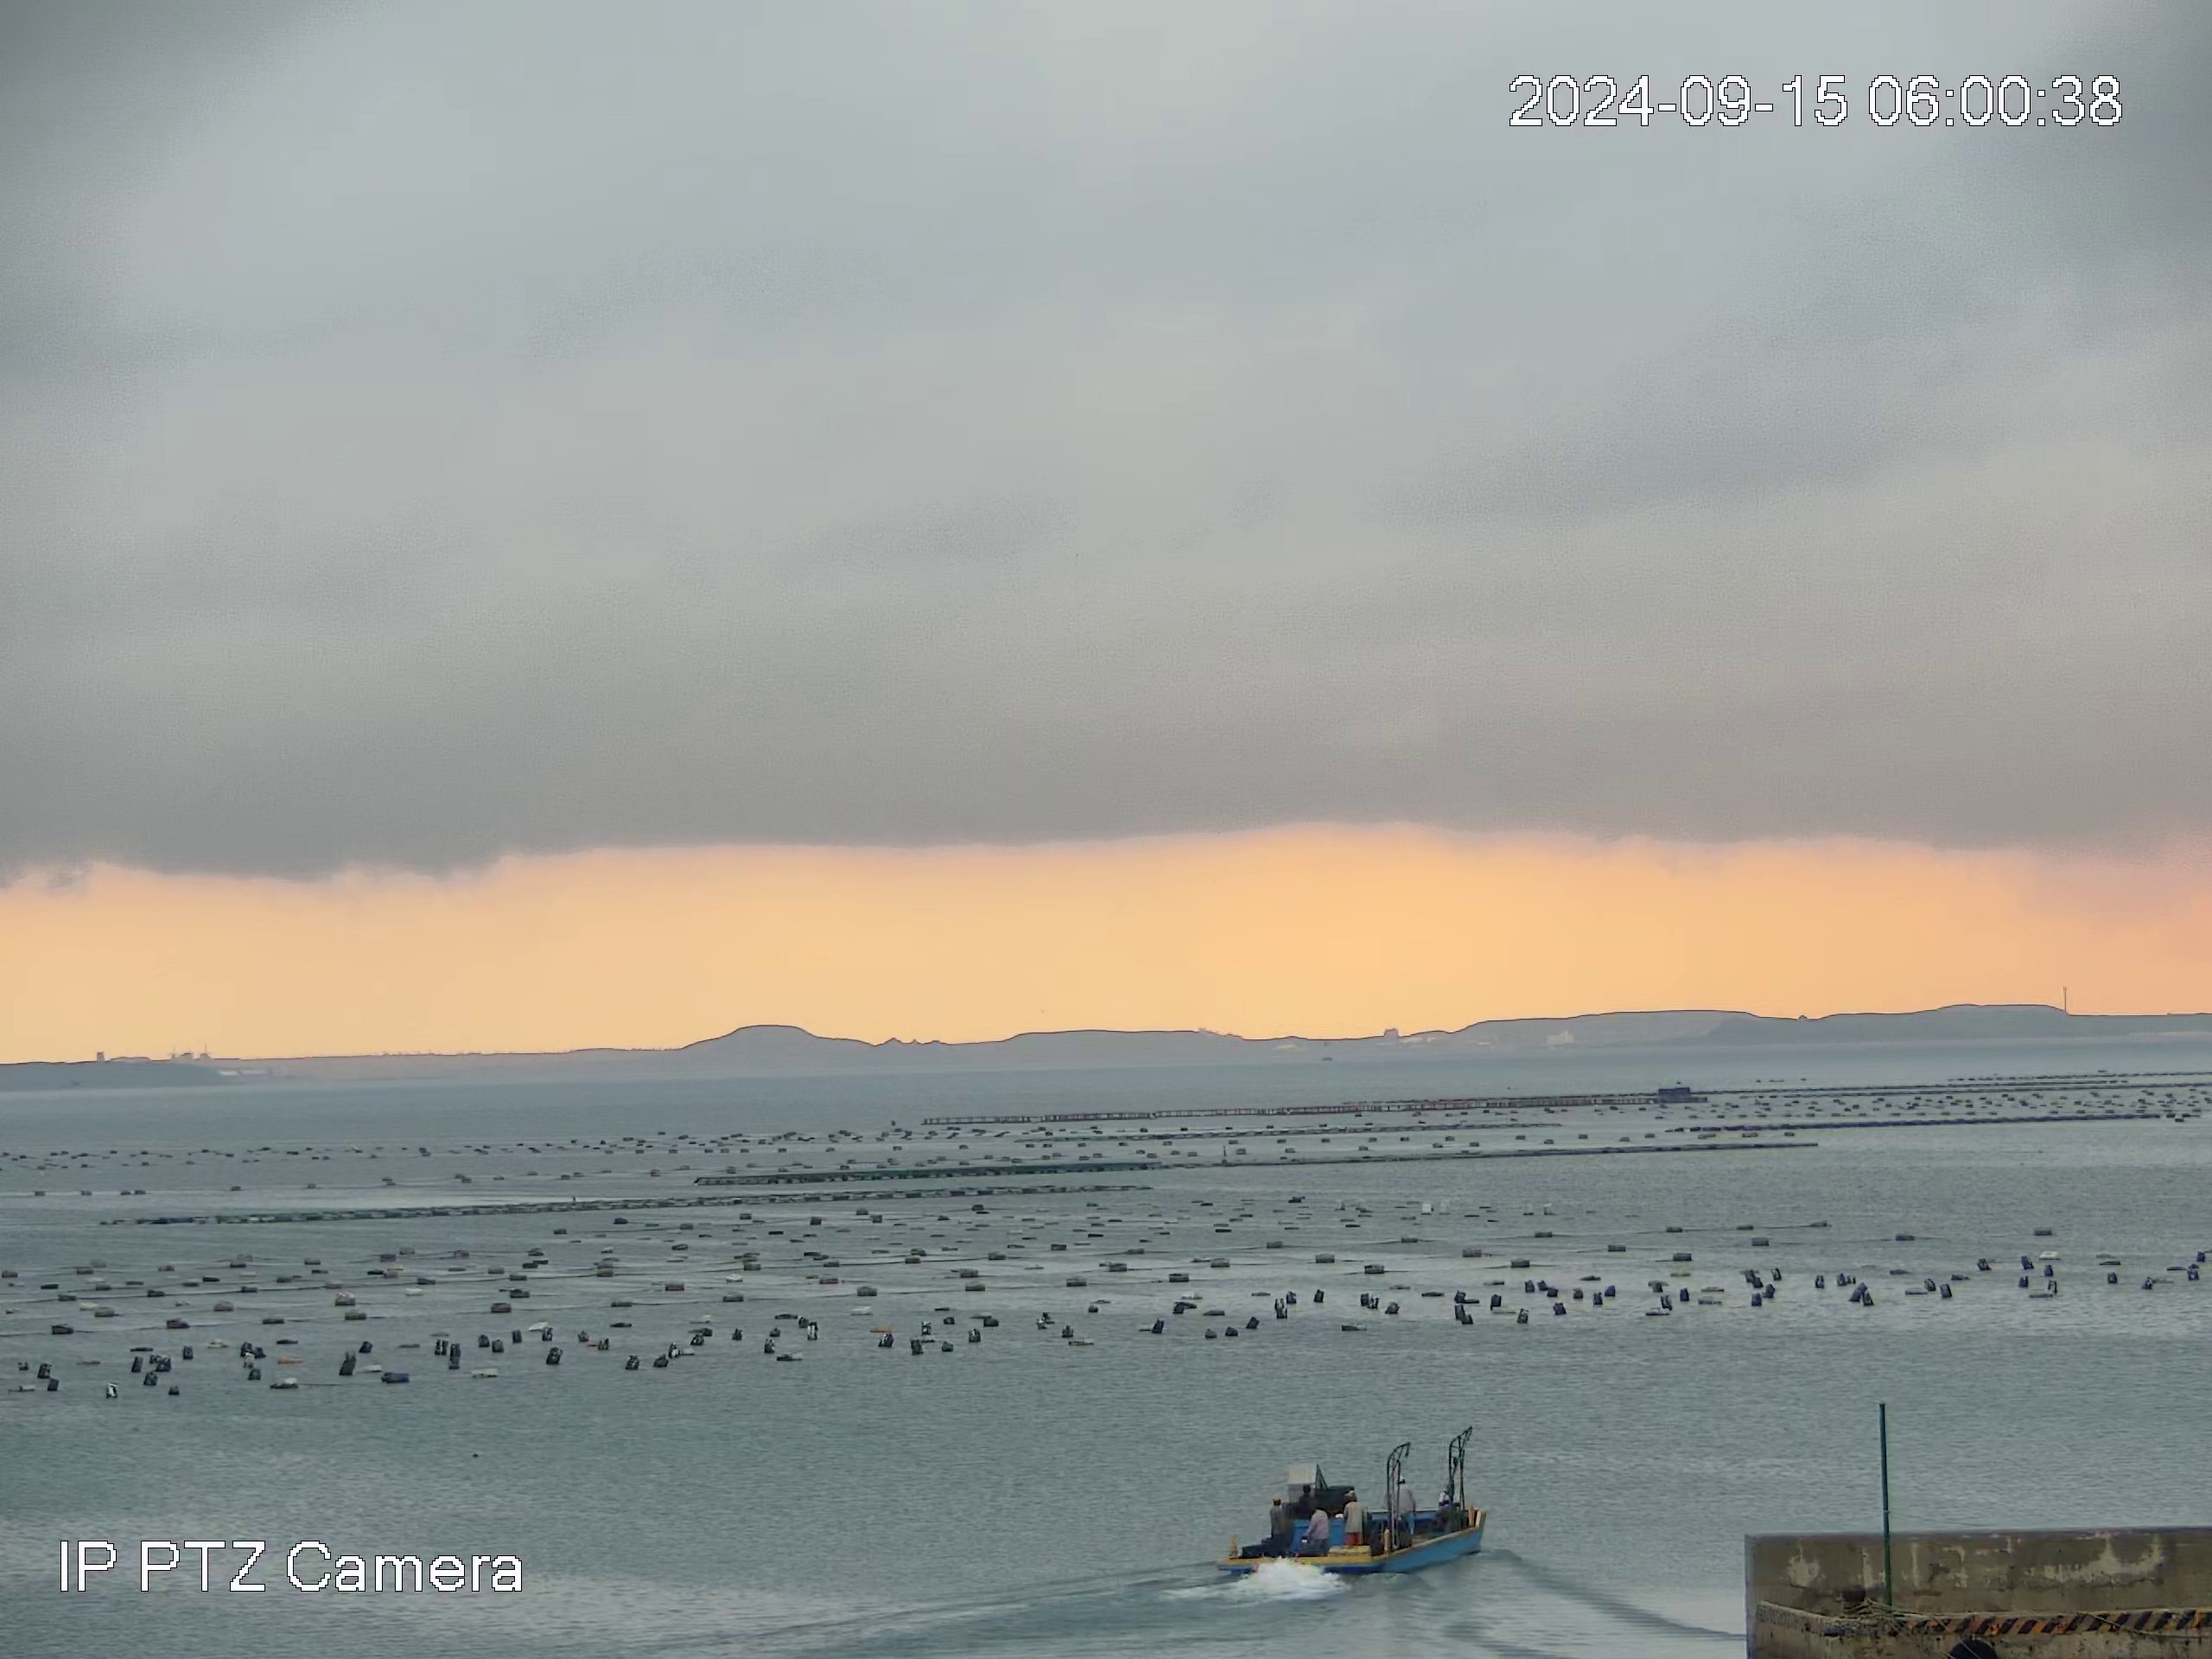boat: (1223, 1422, 1475, 1598)
